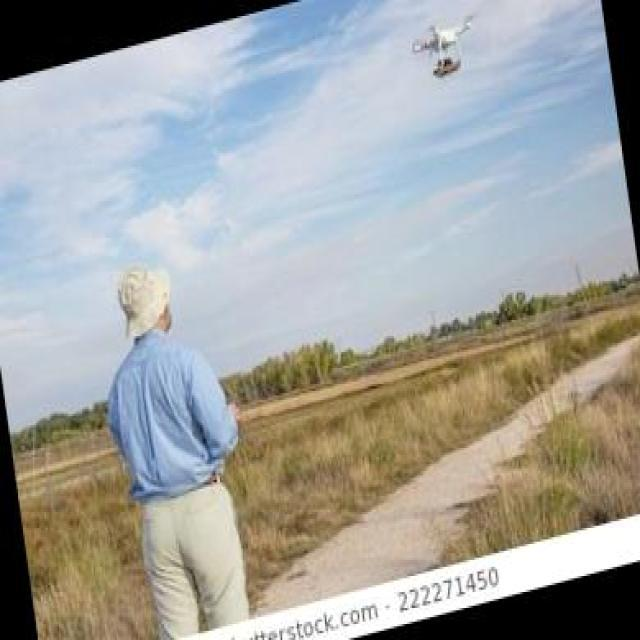drone: (408, 7, 482, 82)
